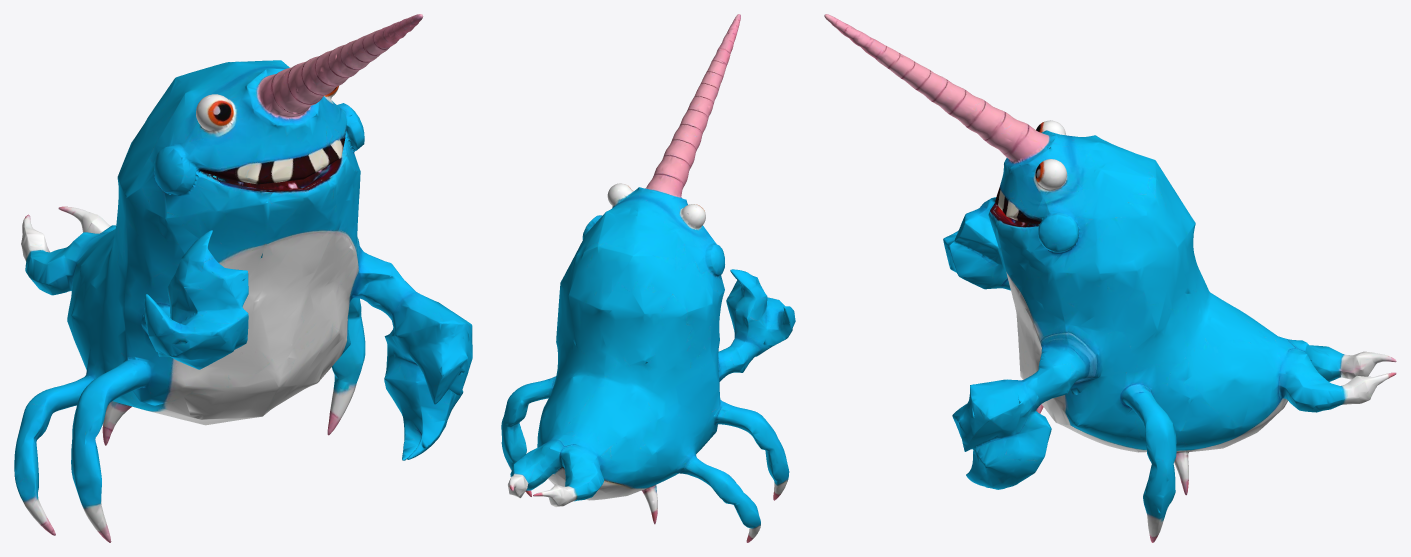
File: narwhal-crab-14595.glb
3 views of the same model, side by side, from view 1: azimuth 30°, elevation 25°; view 2: azimuth 150°, elevation 25°; view 3: azimuth 270°, elevation 25° (orthographic). The views are drawn at different scales.
Bounding box in the file's own units: 1.16 × 1.83 × 1.91.
Materials: 1 (1 with a texture image).
